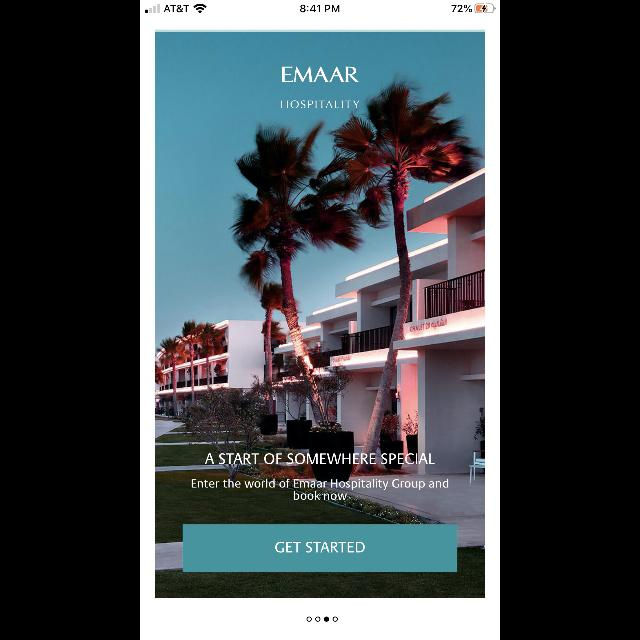image: (155, 30, 485, 598)
pageindicator: (306, 616, 338, 622)
text: (192, 478, 448, 500), (205, 454, 435, 464), (282, 66, 358, 82), (281, 101, 359, 109)
textbutton: (183, 524, 457, 572)
uppertaskbar: (140, 0, 500, 14)
